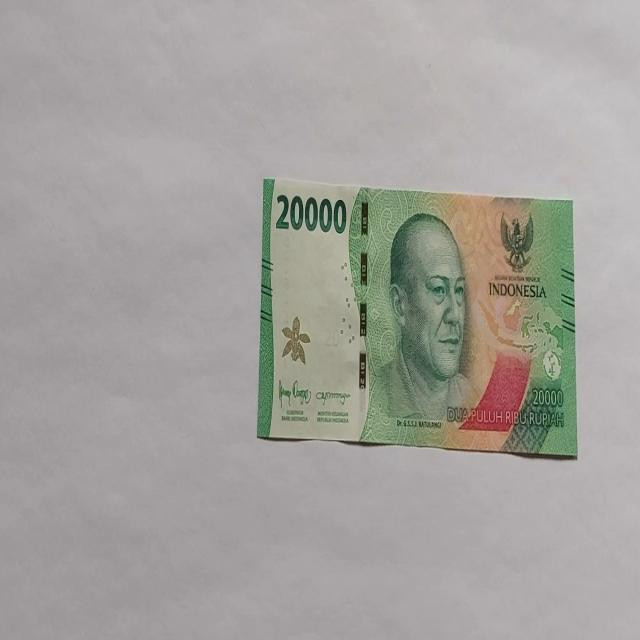dua puluh ribu rupiah: (257, 175, 577, 458), (359, 208, 482, 444)
